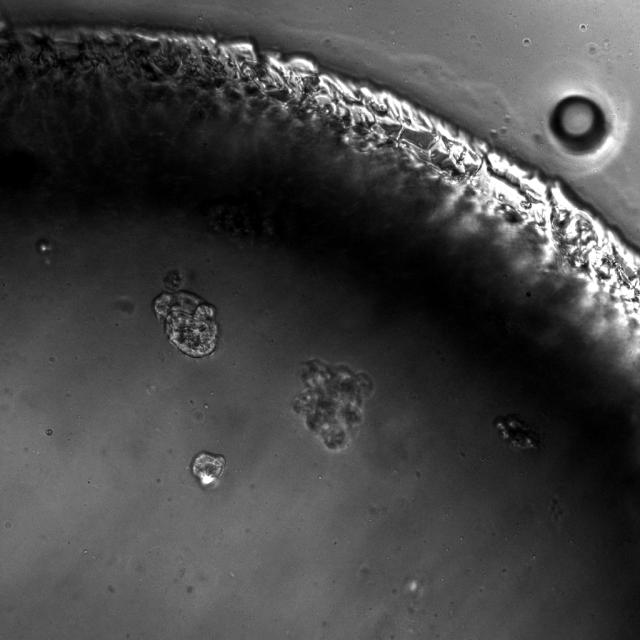organoid: (292, 359, 372, 452), (152, 271, 219, 358), (493, 415, 541, 450), (191, 450, 224, 487)
